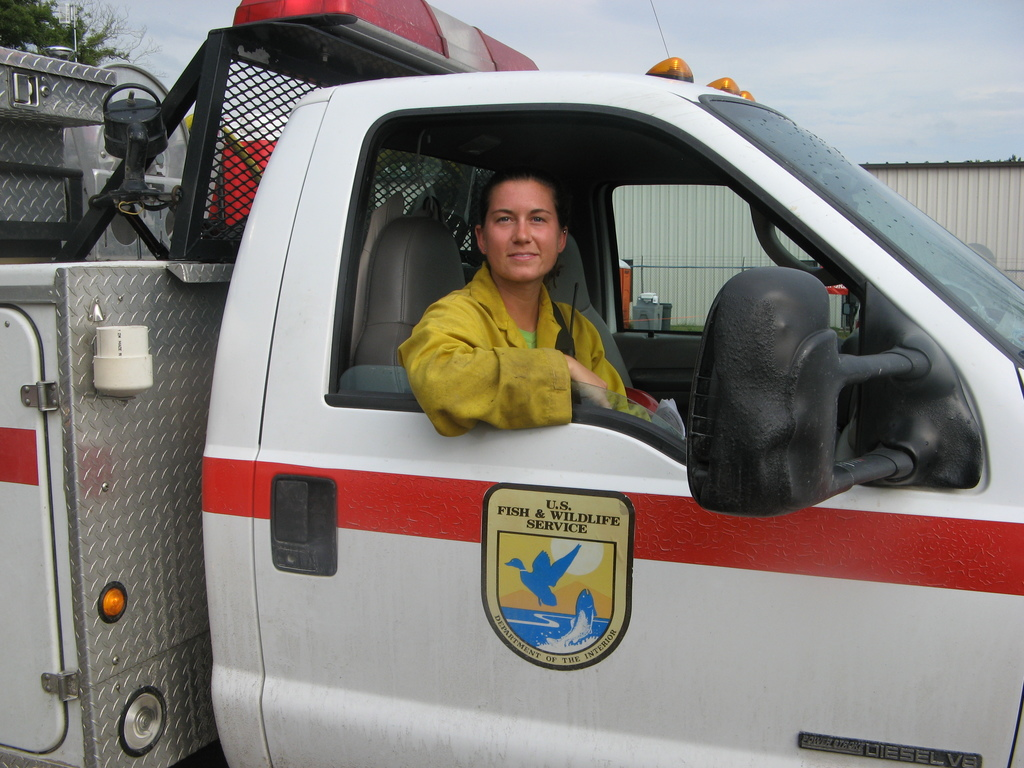Person: (396, 167, 662, 437)
